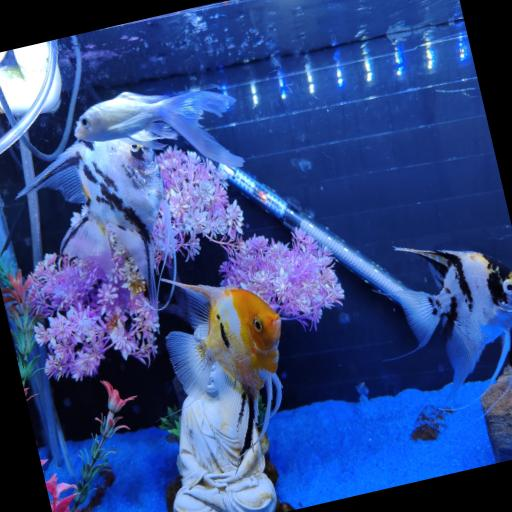Fish: (17, 140, 169, 309), (166, 283, 281, 454), (395, 248, 511, 401), (74, 91, 243, 167)
